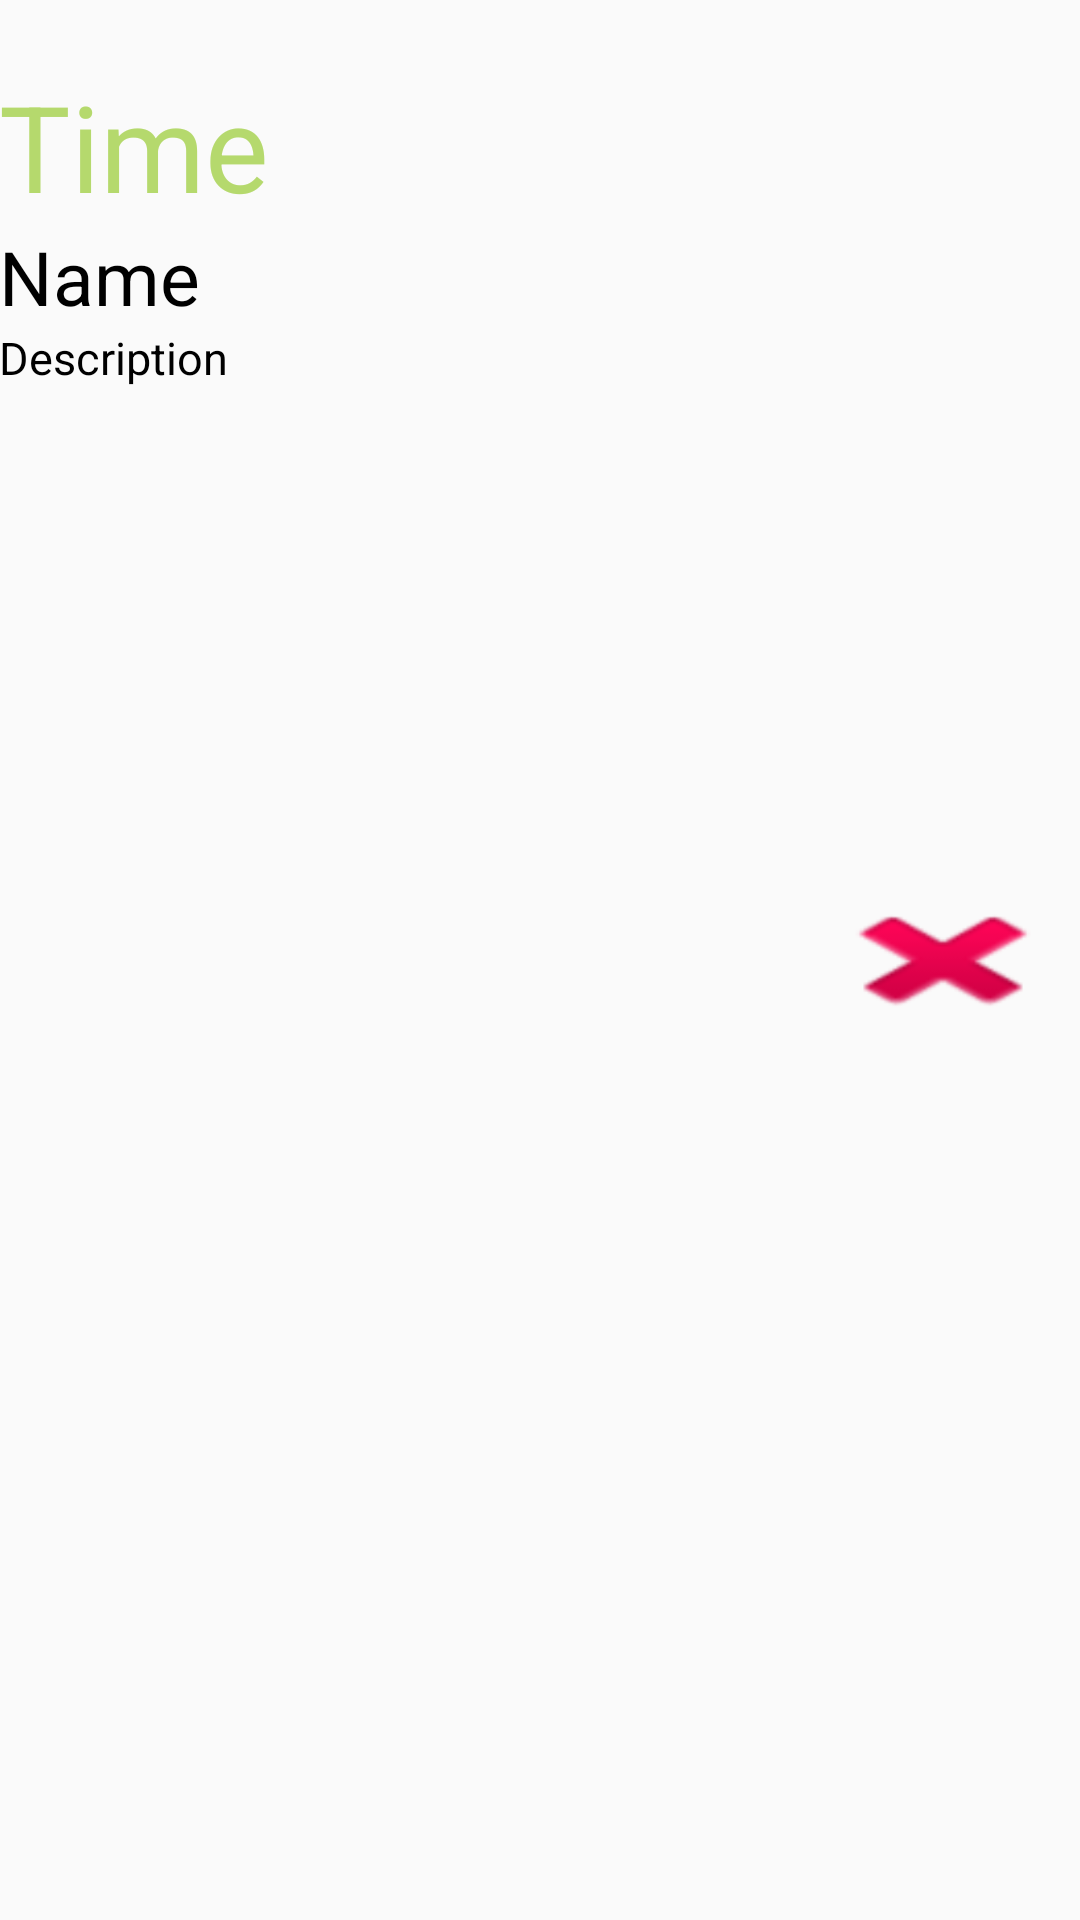

Icons on this 1080 × 1920 Android screen, each with the point to tap as point (x, y):
delete: point (943, 960)
